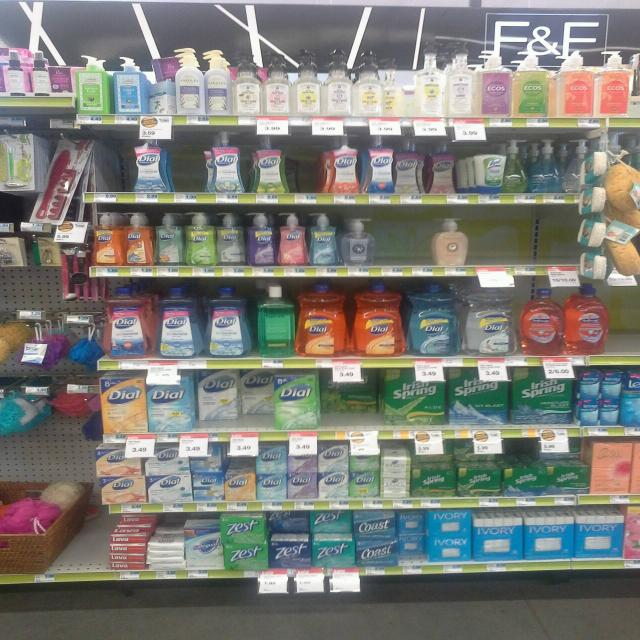void: (291, 135, 323, 203), (98, 128, 126, 202), (538, 209, 568, 275), (178, 130, 205, 203), (473, 209, 501, 278), (79, 512, 107, 581), (507, 211, 533, 277), (613, 289, 640, 352), (381, 211, 405, 277), (409, 211, 432, 279), (52, 46, 69, 106)
